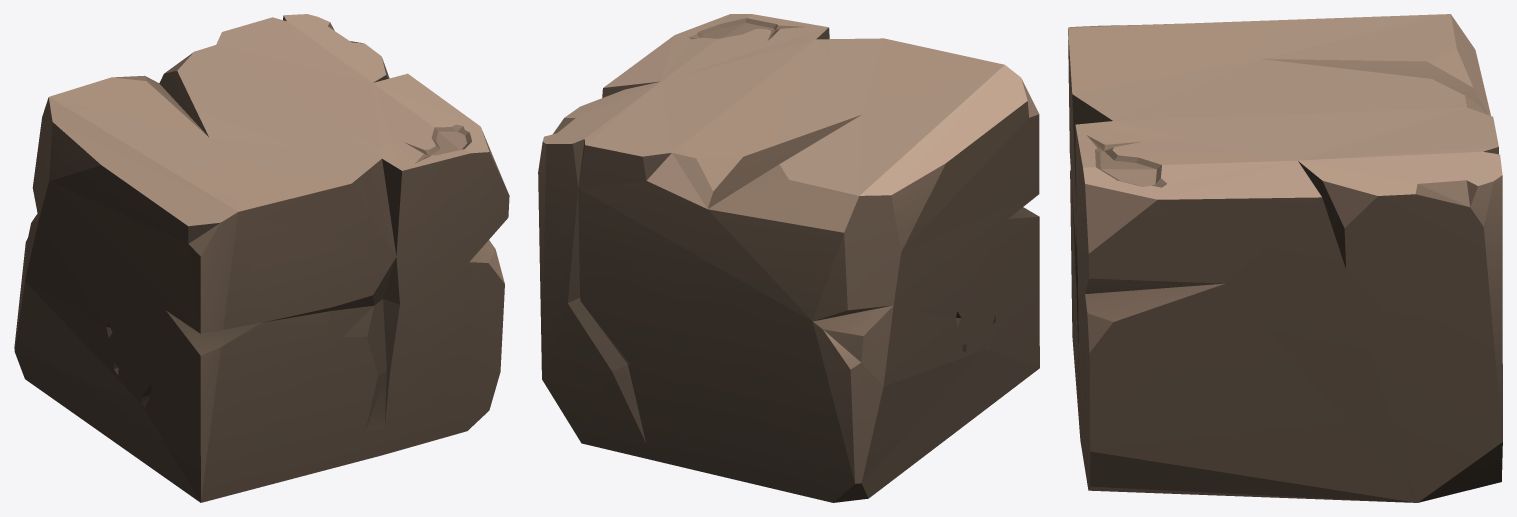
The model's file is Rock_Medium_1B.fbx.
3 renders of one model, left to right at view 1: azimuth 30°, elevation 25°; view 2: azimuth 150°, elevation 25°; view 3: azimuth 270°, elevation 25°, orthographic. The views are drawn at different scales.
Visible parts, largest first — view 1: Rock_Medium_1B; view 2: Rock_Medium_1B; view 3: Rock_Medium_1B.
Boxes of the visible parts, <box> form: Rock_Medium_1B: <box>14,14,509,502</box>; Rock_Medium_1B: <box>538,14,1039,502</box>; Rock_Medium_1B: <box>1068,14,1502,502</box>.
Size of the model in its own units: 2.04 by 1.71 by 2.01.
